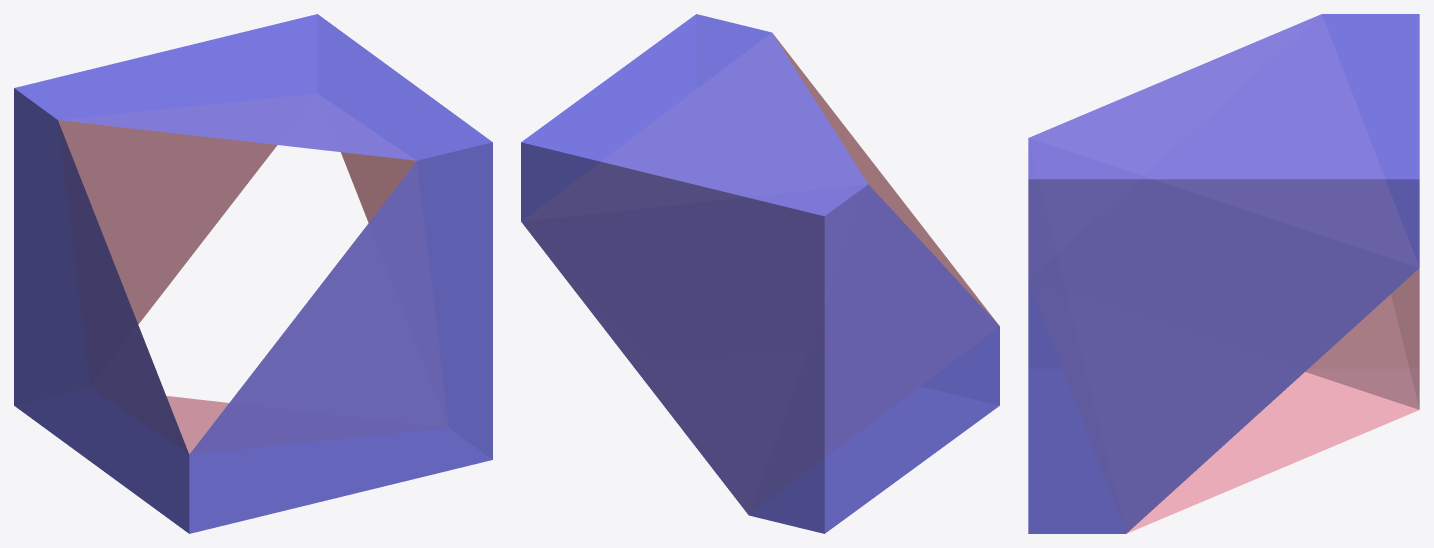
Rendered from CubeOctahedronToroid.obj.
3 views of the same model, side by side, from view 1: azimuth 30°, elevation 25°; view 2: azimuth 150°, elevation 25°; view 3: azimuth 270°, elevation 25° (orthographic). The views are drawn at different scales.
Size of the model in its own units: 4 by 4 by 4.
